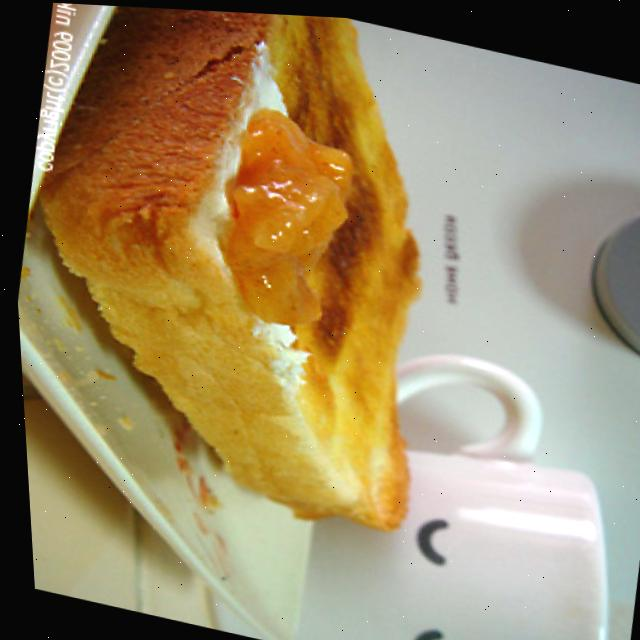面包点心: (4, 0, 488, 540)
